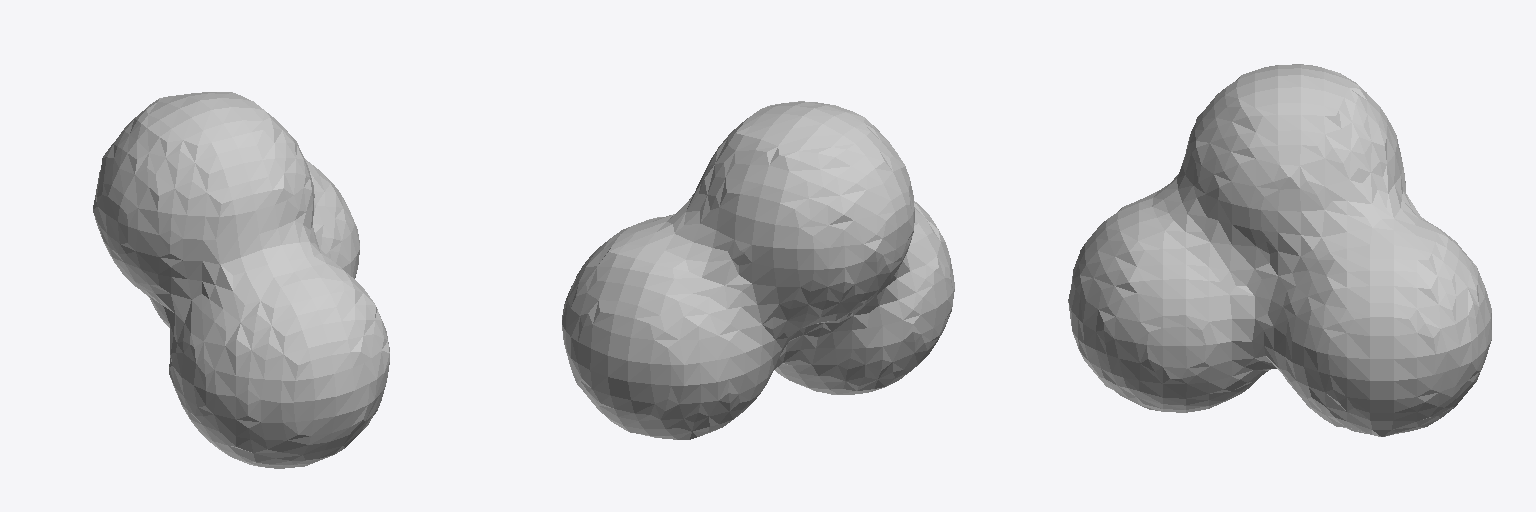
Rendered from smoke.obj.
3 renders of one model, left to right at view 1: azimuth 30°, elevation 25°; view 2: azimuth 150°, elevation 25°; view 3: azimuth 270°, elevation 25°, orthographic.
Visible parts, largest first — view 1: smoke; view 2: smoke; view 3: smoke.
Boxes of the visible parts, x1,y1,x2,y2 form: smoke: [93, 92, 389, 468]; smoke: [562, 101, 954, 439]; smoke: [1068, 64, 1491, 436].
Size of the model in its own units: 2.09 by 2.26 by 2.74.